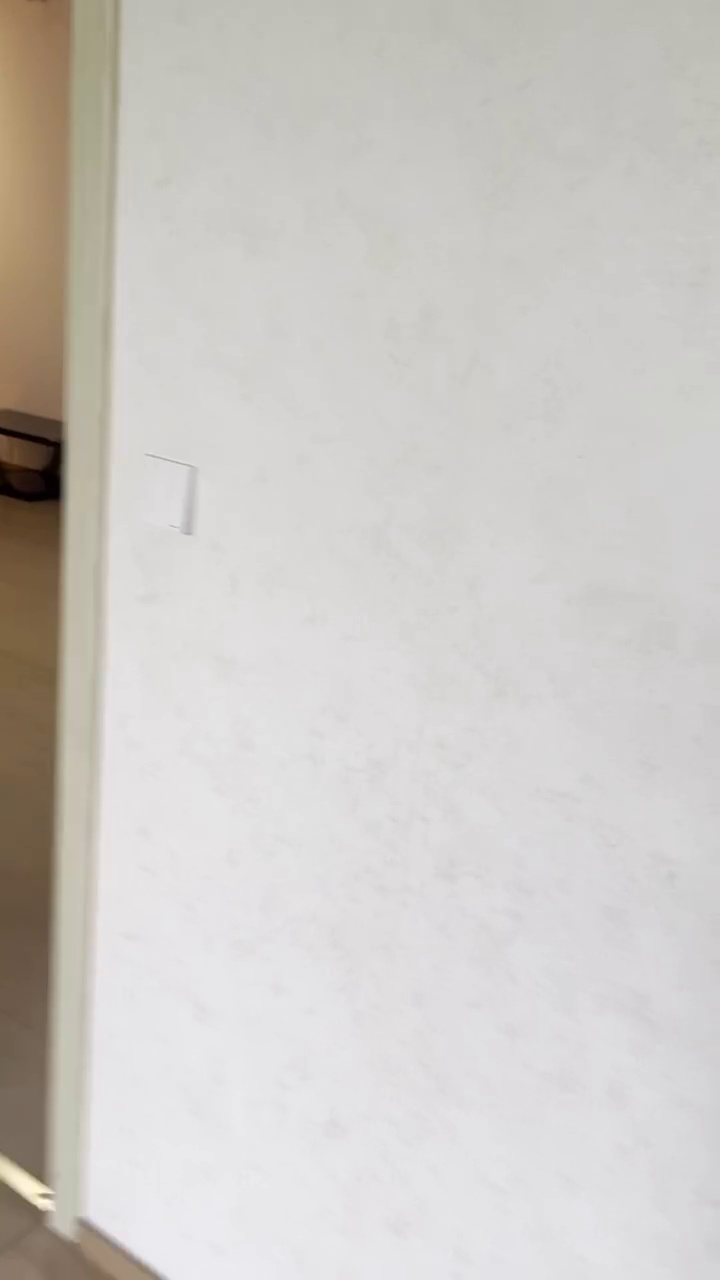button: (125, 453, 200, 542)
